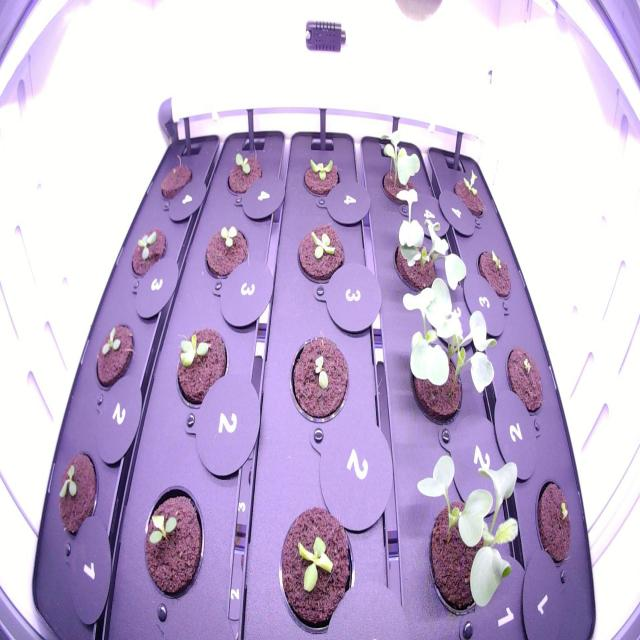germination: (284, 332, 356, 431), (530, 472, 578, 572), (376, 128, 428, 207), (503, 340, 548, 420), (220, 146, 267, 204), (473, 242, 517, 303), (448, 161, 489, 224)
pod: (155, 152, 198, 211)
young: (273, 501, 359, 636), (135, 482, 209, 614), (170, 320, 233, 420), (52, 446, 101, 545), (291, 218, 348, 290), (201, 218, 252, 290), (92, 317, 137, 394), (125, 224, 169, 286), (297, 151, 343, 203)
